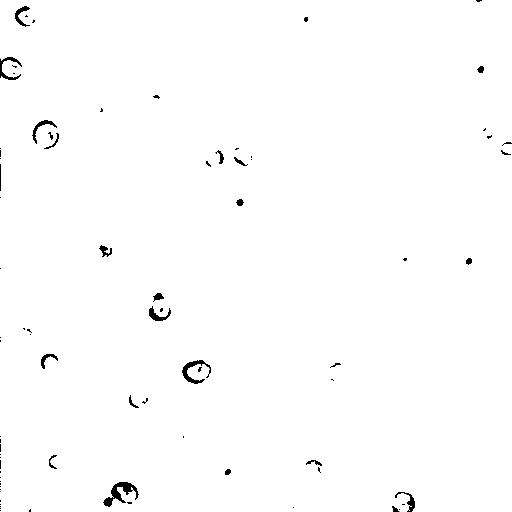micro-algae: (192, 315, 264, 392), (52, 137, 122, 205), (205, 346, 264, 395), (457, 464, 512, 512), (208, 134, 254, 174), (135, 280, 175, 321), (1, 148, 38, 189), (428, 297, 463, 333), (384, 246, 422, 279), (90, 481, 128, 512), (93, 96, 125, 127), (64, 373, 95, 404), (215, 460, 244, 493), (384, 137, 413, 170), (32, 119, 62, 150), (410, 299, 441, 329), (454, 245, 485, 275), (399, 104, 428, 136), (181, 360, 212, 385), (301, 458, 327, 487), (294, 5, 321, 32), (71, 189, 98, 214), (30, 0, 62, 21), (18, 322, 42, 348), (148, 296, 172, 322), (111, 481, 139, 503), (1, 56, 24, 81), (262, 100, 285, 125), (202, 146, 226, 169), (390, 491, 416, 512), (14, 5, 37, 27), (141, 442, 165, 463), (40, 352, 61, 375), (325, 361, 346, 384), (231, 146, 253, 167), (467, 0, 494, 17), (128, 388, 149, 409), (96, 238, 114, 259), (469, 60, 488, 79), (47, 453, 68, 470), (227, 195, 249, 209), (27, 500, 52, 512), (478, 124, 495, 141), (68, 384, 89, 397), (171, 423, 186, 440), (444, 77, 458, 93), (500, 141, 512, 156), (287, 505, 307, 512)
